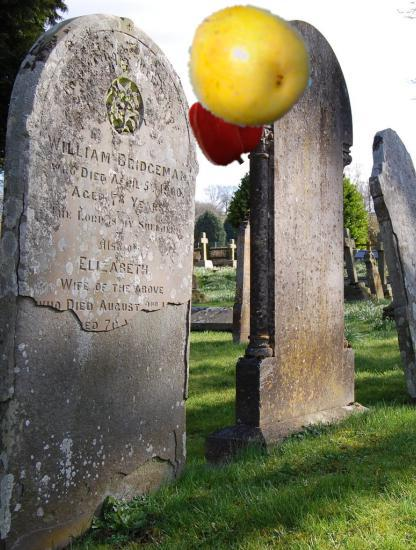Maracuja: (186, 4, 313, 131)
Pepper: (188, 81, 271, 164)
